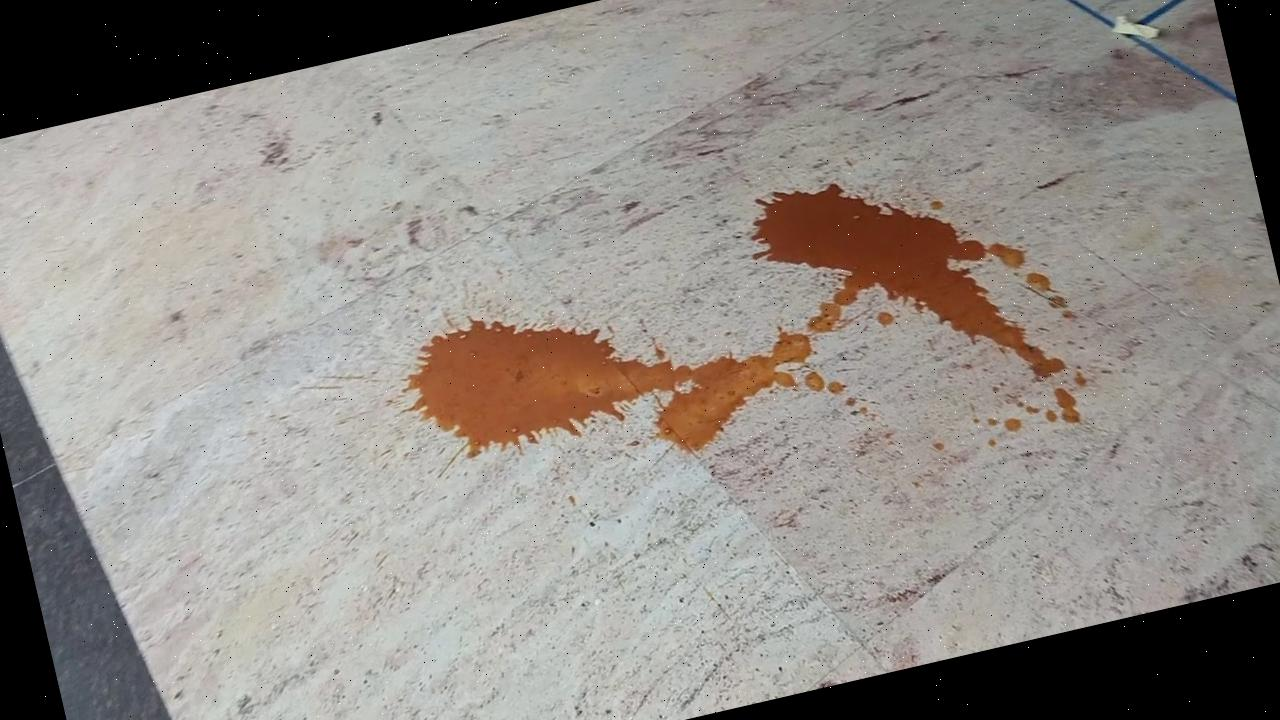dirty_floor: (388, 131, 1098, 566)
